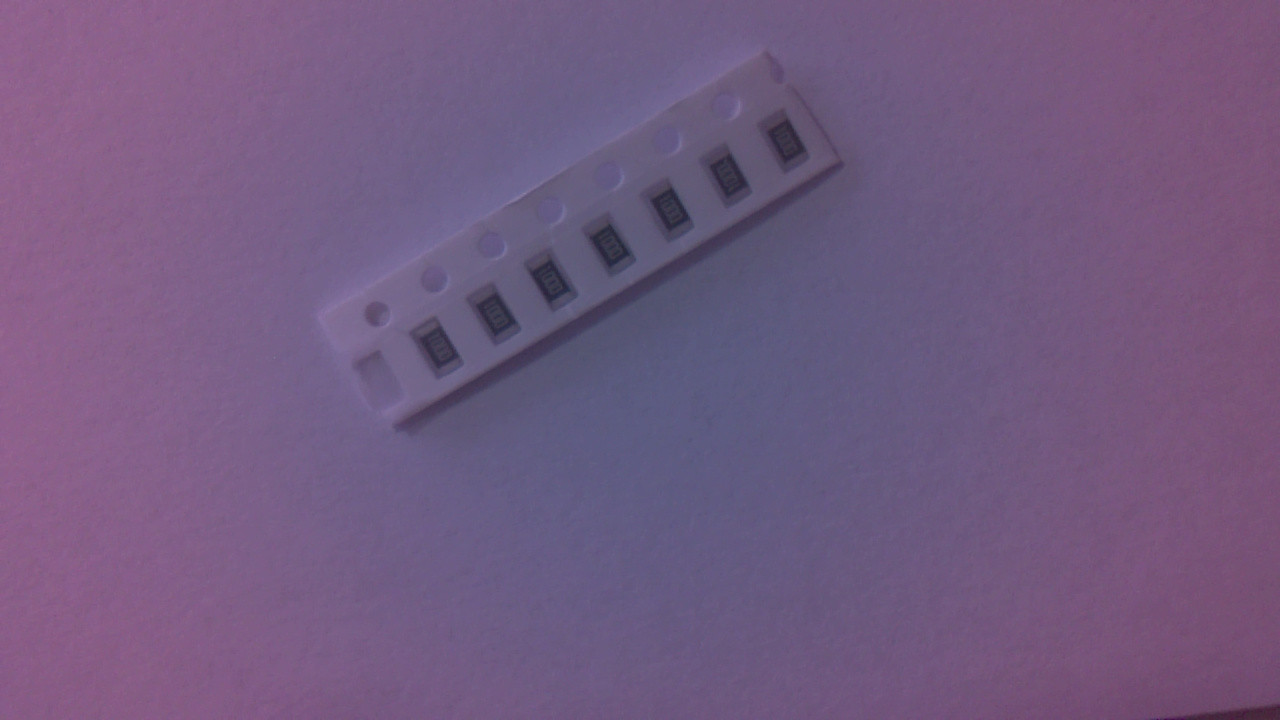Resistor: (527, 251, 583, 318), (470, 285, 527, 350), (644, 181, 700, 247), (703, 145, 758, 212), (586, 218, 643, 282), (763, 114, 820, 177), (415, 321, 471, 384)
